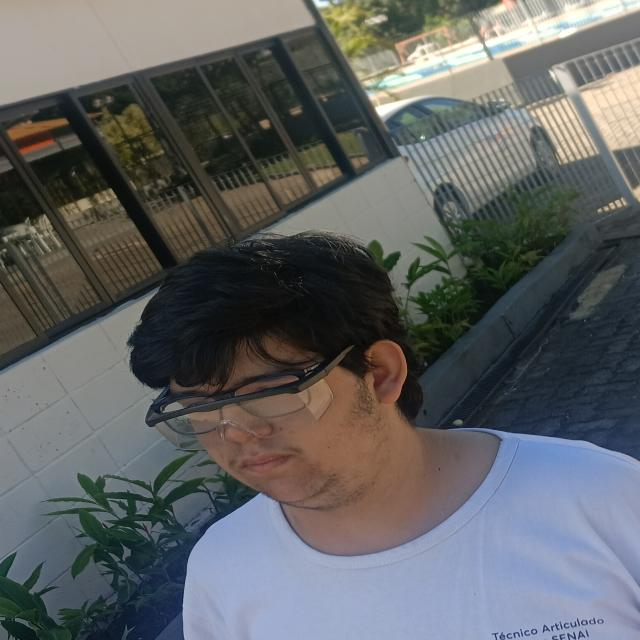oculos-epi: (144, 344, 355, 450)
